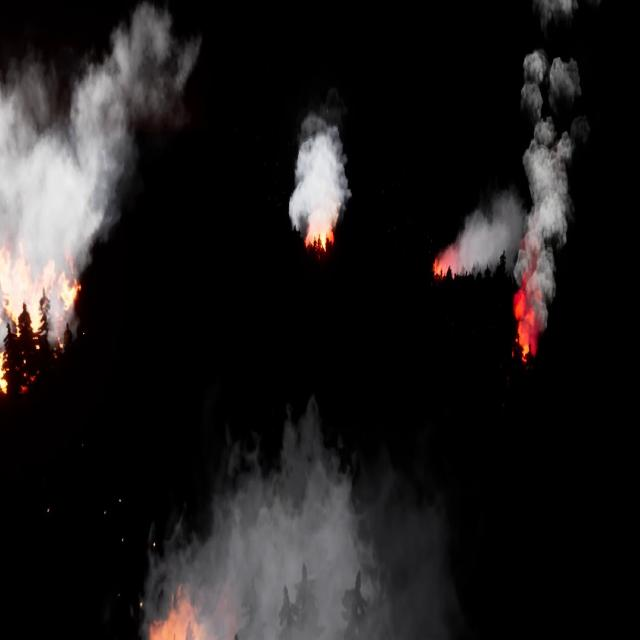fire: (0, 242, 88, 388), (140, 591, 206, 639), (304, 222, 336, 257), (515, 315, 537, 361)
smoke: (0, 0, 206, 368), (144, 429, 456, 639), (438, 0, 583, 346)
